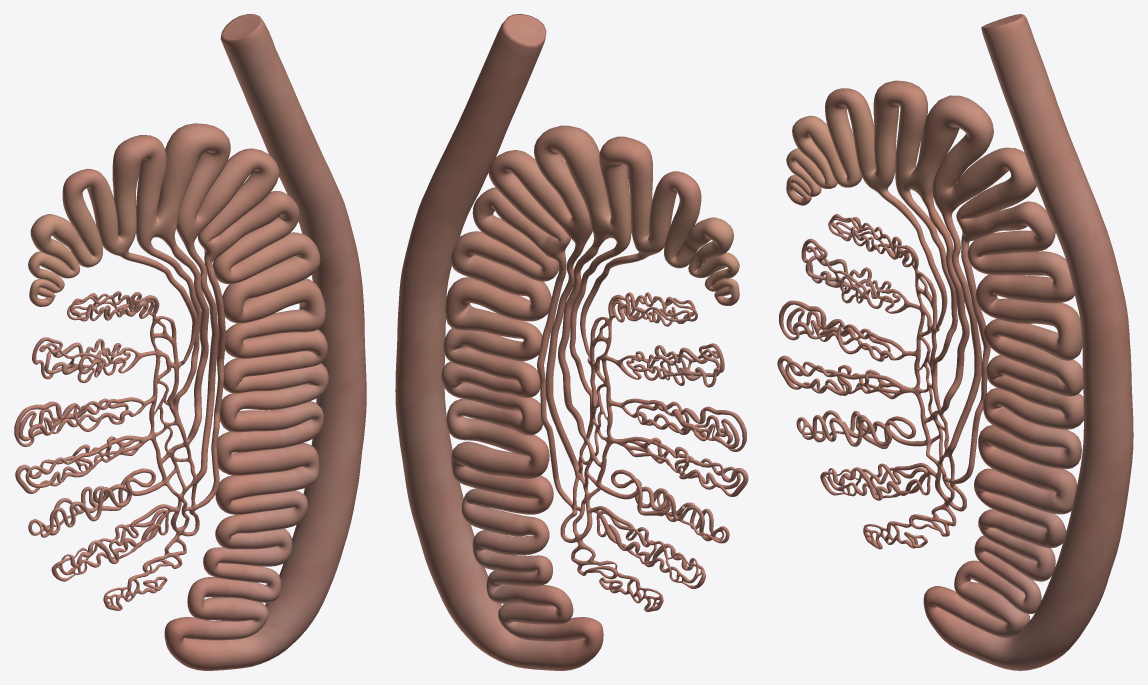
3 renders of one model, left to right at view 1: azimuth 30°, elevation 25°; view 2: azimuth 150°, elevation 25°; view 3: azimuth 330°, elevation 25°, orthographic.
Visible parts, largest first — view 1: LOD 0_6378092431652634060_a1e5460f9667e624384844bb77a670e0; view 2: LOD 0_6378092431652634060_a1e5460f9667e624384844bb77a670e0; view 3: LOD 0_6378092431652634060_a1e5460f9667e624384844bb77a670e0.
Part boxes in pixels (box(x1,y1,x2,y2)): LOD 0_6378092431652634060_a1e5460f9667e624384844bb77a670e0: box(14, 14, 366, 670); LOD 0_6378092431652634060_a1e5460f9667e624384844bb77a670e0: box(395, 14, 748, 670); LOD 0_6378092431652634060_a1e5460f9667e624384844bb77a670e0: box(777, 14, 1133, 670).
Size of the model in its own units: 6.96 by 12.33 by 0.9784.
